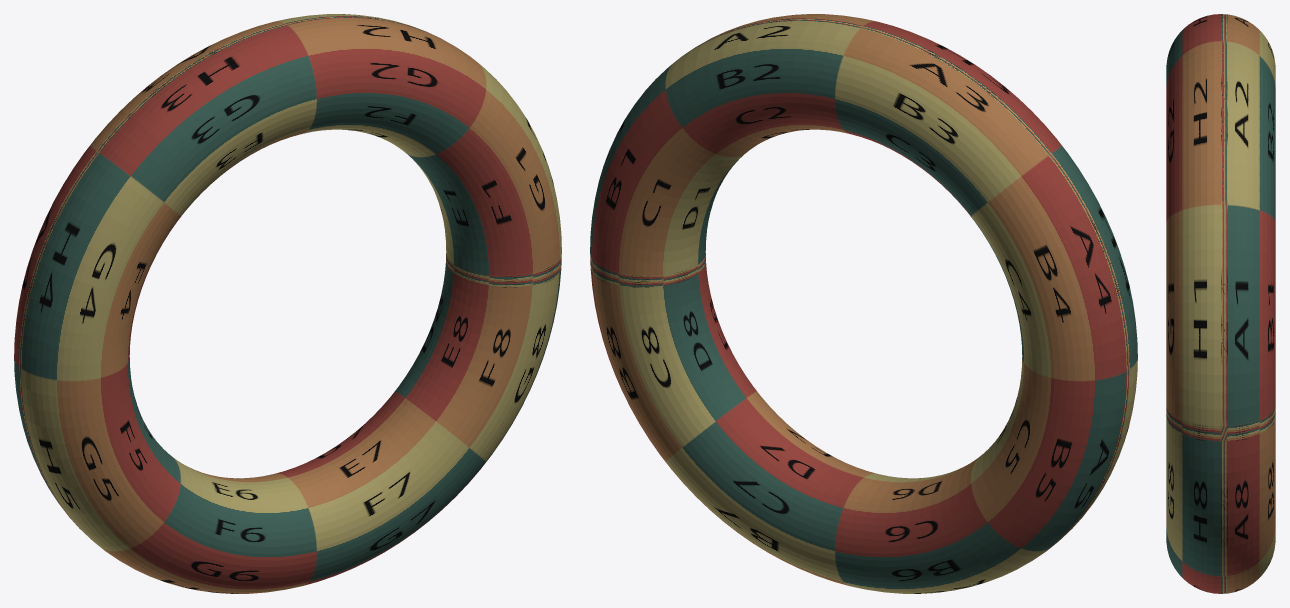
Rendered from texture_torus_R8_r5.glb.
3 views of the same model, side by side, from view 1: azimuth 30°, elevation 25°; view 2: azimuth 150°, elevation 25°; view 3: azimuth 270°, elevation 25° (orthographic). The views are drawn at different scales.
Parts seen in each view (by area): view 1: world; view 2: world; view 3: world.
Part boxes in pixels (x1,y1,x2,y2): world: (14,14,561,593); world: (590,14,1137,593); world: (1166,14,1275,593).
Bounding box in the file's own units: 34.22 × 34.22 × 6.43.
1 material, 1 textured.
